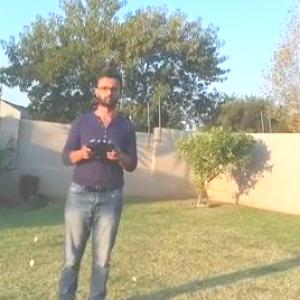follow: (54, 61, 143, 299)
